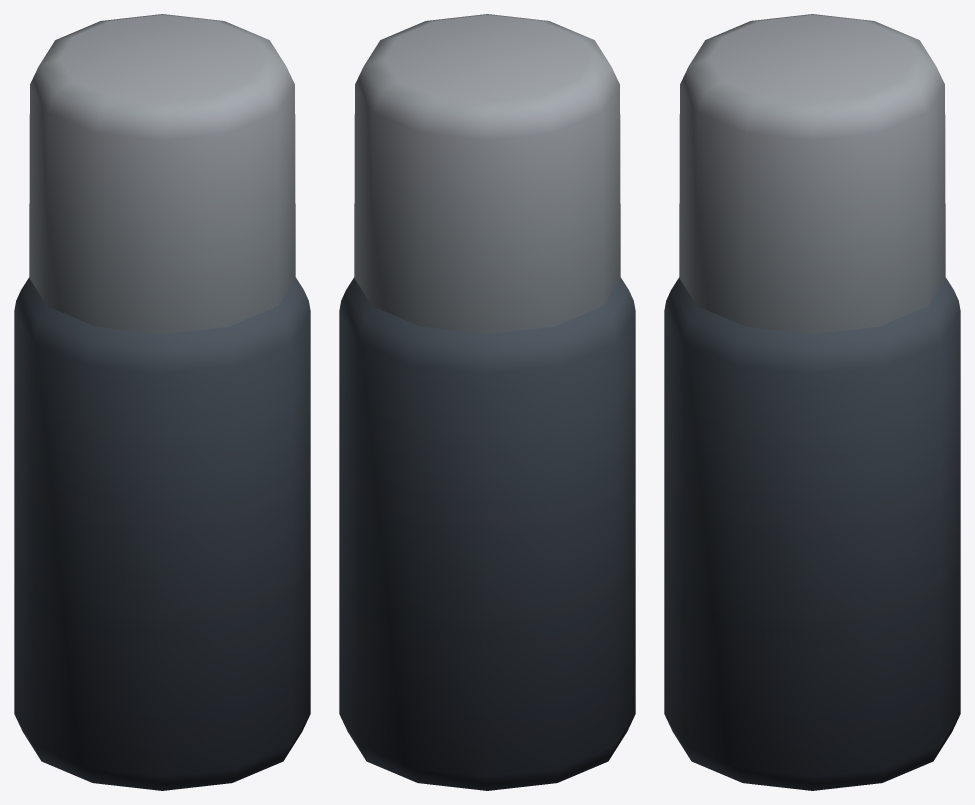
File: Peper.fbx
3 views of the same model, side by side, from view 1: azimuth 30°, elevation 25°; view 2: azimuth 150°, elevation 25°; view 3: azimuth 270°, elevation 25° (orthographic).
Visible parts, largest first — view 1: Peper; view 2: Peper; view 3: Peper.
Boxes of the visible parts, left/top/right/bottom form: Peper: left=14, top=14, right=310, bottom=790; Peper: left=339, top=14, right=635, bottom=790; Peper: left=664, top=14, right=960, bottom=790.
Size of the model in its own units: 11.34 by 11.34 by 28.72.
